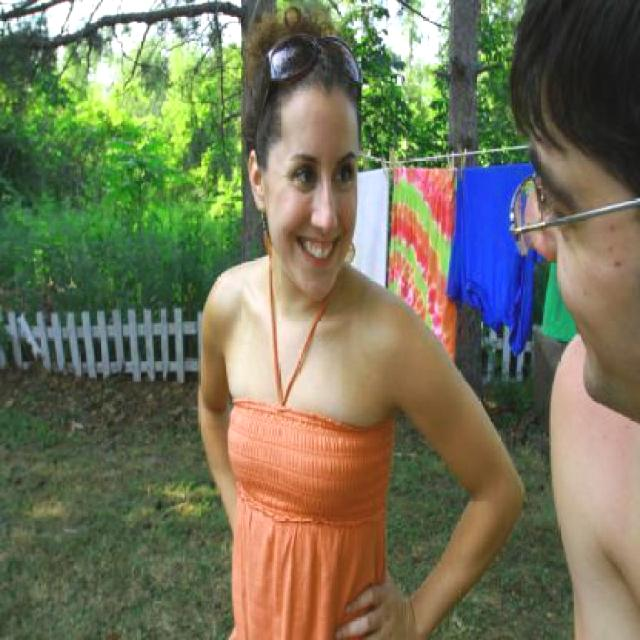face_nomask: (276, 151, 359, 272)
glasses: (173, 26, 462, 640), (256, 48, 364, 141), (493, 166, 579, 262)
head_nohelmet: (235, 12, 378, 118)
